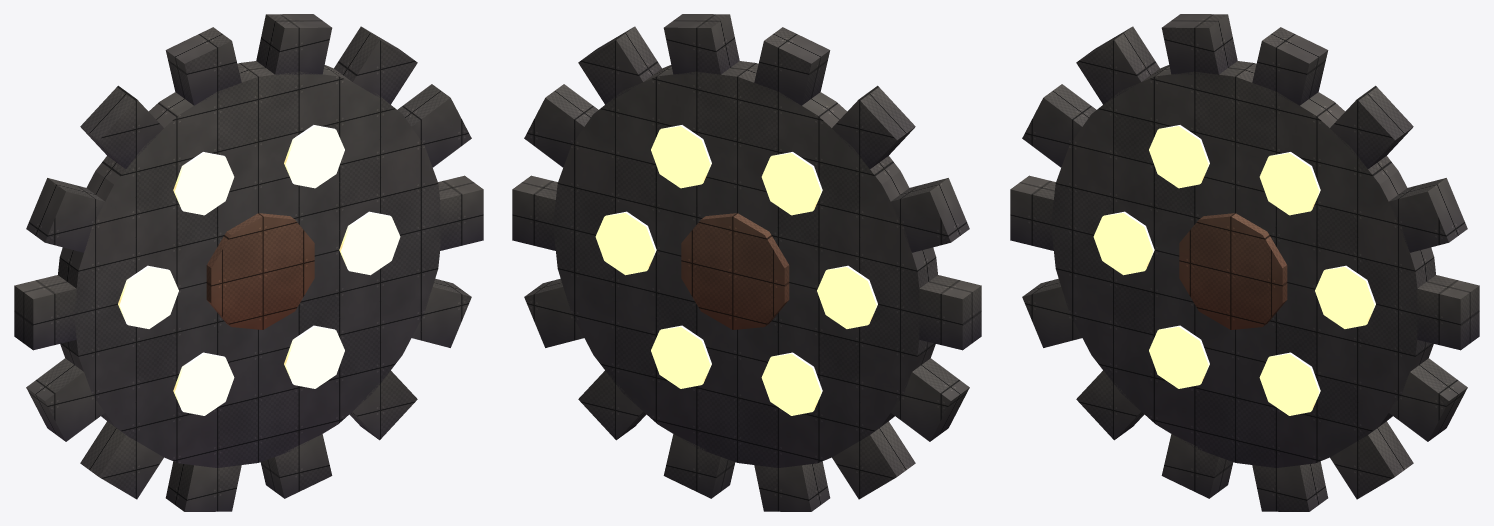
Rendered from engrenagem-forja.glb.
3 views of the same model, side by side, from view 1: azimuth 30°, elevation 25°; view 2: azimuth 150°, elevation 25°; view 3: azimuth 330°, elevation 25° (orthographic).
Visible parts, largest first — view 1: engrenagem-forja; view 2: engrenagem-forja; view 3: engrenagem-forja.
Boxes of the visible parts, x1,y1,x2,y2 form: engrenagem-forja: (14, 14, 483, 511); engrenagem-forja: (512, 14, 981, 511); engrenagem-forja: (1010, 14, 1479, 511).
Size of the model in its own units: 8.3 by 8.29 by 0.8997.
Materials: 2 (1 with a texture image).
